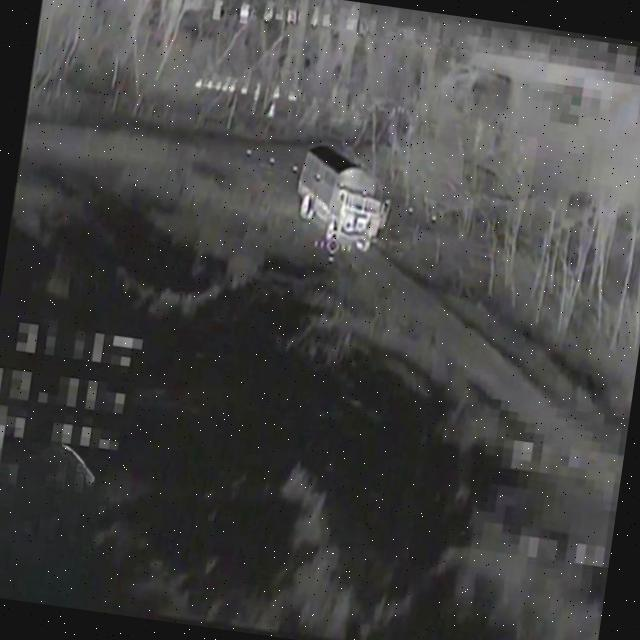Vehicle: (285, 143, 399, 253)
